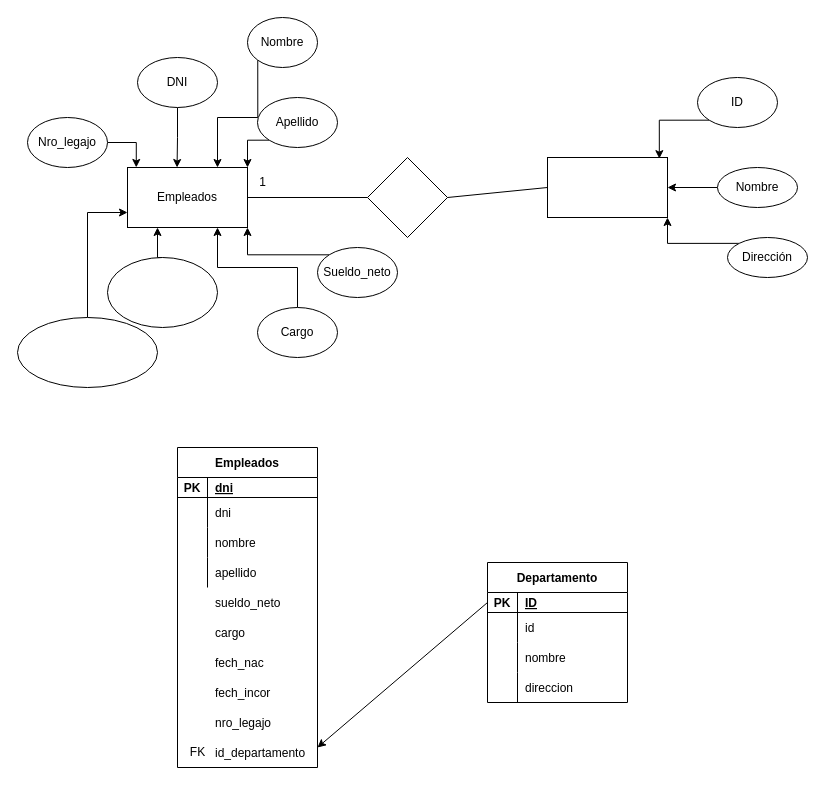
This 825x785 diagram has some shape labels left out. Here are the shapes that lost their labels. From the top down, the centre of each, then its label:
At pixel 407 197: "VIVE".
At pixel 607 187: "Departamentos".
At pixel 162 292: "Fecha_nacimiento".
At pixel 87 352: "Fecha_incorporación".
